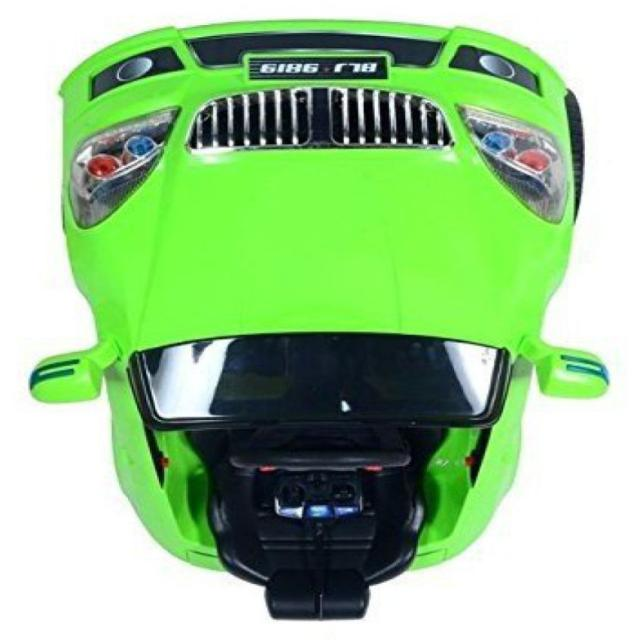Car: (28, 19, 610, 621)
